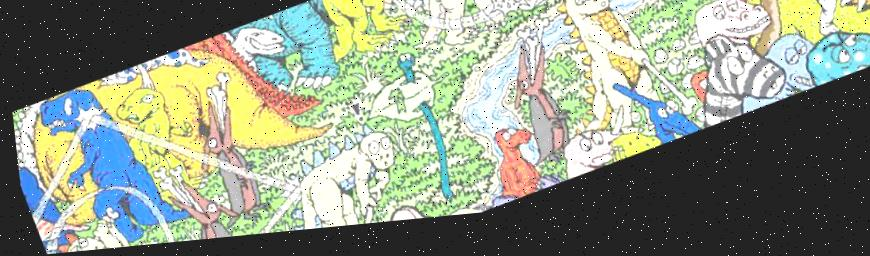waldo: (715, 0, 751, 19)
